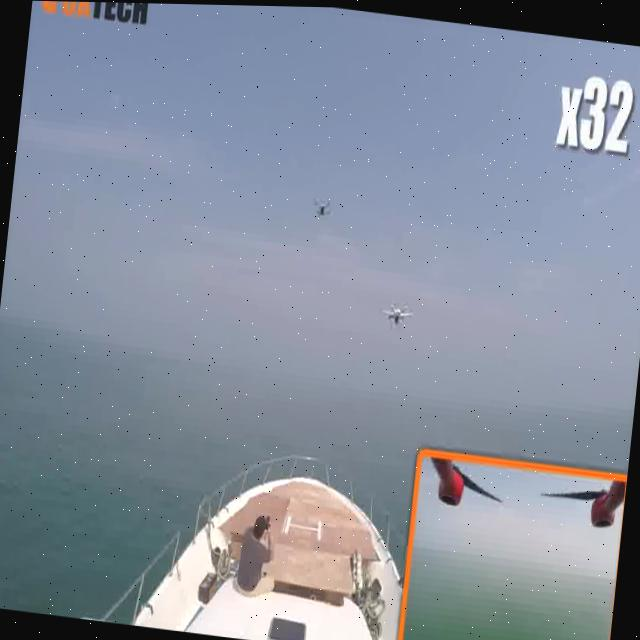drone: (374, 297, 415, 336), (309, 180, 337, 228)
